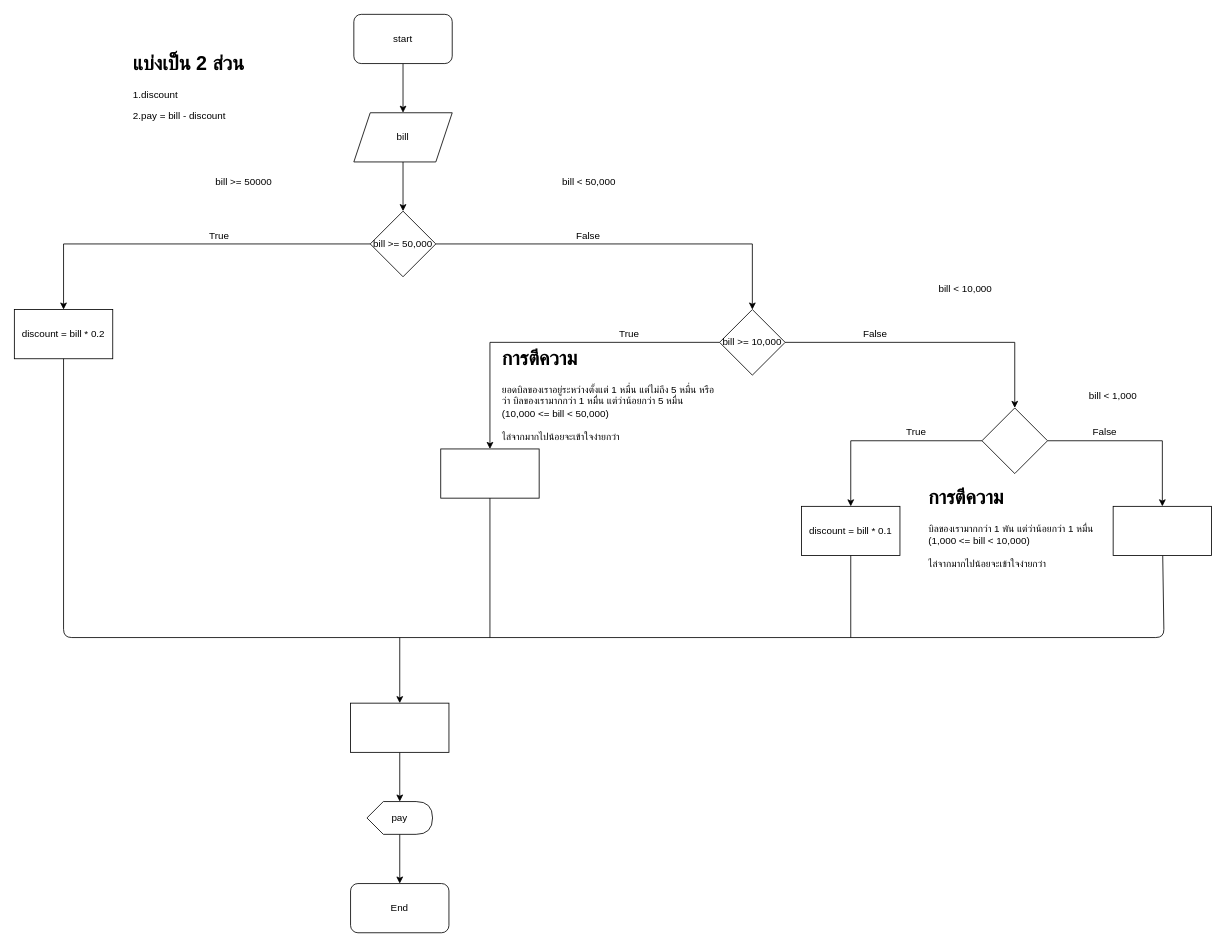
The diagram is 1226 pixels wide and 947 high, and some of its shapes have lost their labels. Here are the shapes that lost their labels. From the top down, the box of each, then its label:
(981, 407, 1048, 474): bill >= 1,000
(440, 448, 539, 498): discount = bill * 0.15
(1112, 506, 1212, 556): discount = 0
(350, 702, 449, 752): pay = bill - discount
